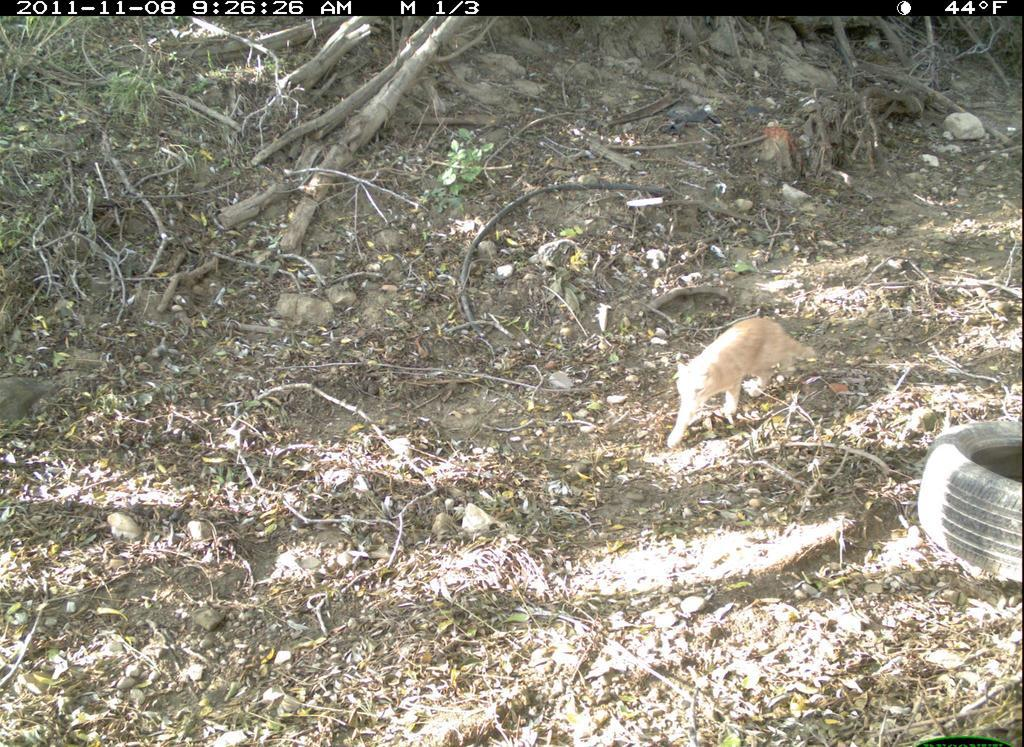cat: (665, 314, 822, 456)
